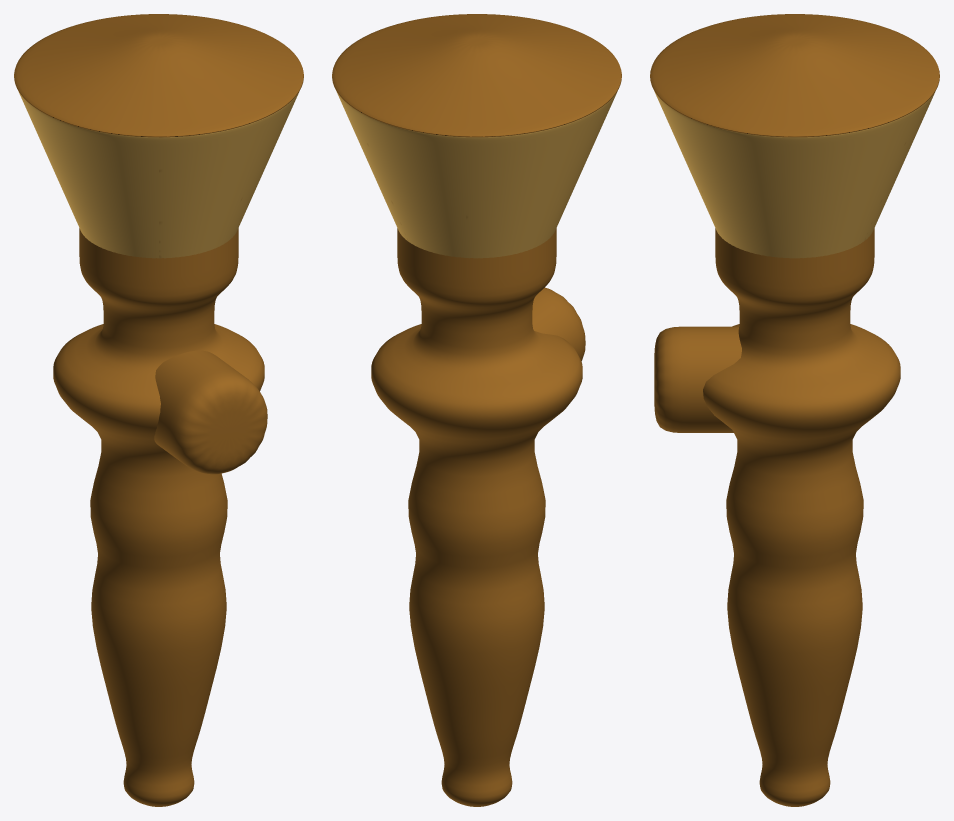
File: Lamp.fbx
3 renders of one model, left to right at view 1: azimuth 30°, elevation 25°; view 2: azimuth 150°, elevation 25°; view 3: azimuth 270°, elevation 25°, orthographic.
Visible parts, largest first — view 1: Wall_Lamp; view 2: Wall_Lamp; view 3: Wall_Lamp.
Boxes of the visible parts, <box> form: Wall_Lamp: <box>14,14,303,806</box>; Wall_Lamp: <box>332,14,621,806</box>; Wall_Lamp: <box>650,14,939,806</box>.
Bounding box in the file's own units: 0.1635 × 0.4736 × 0.1635.
Materials: 1 (1 with a texture image).
